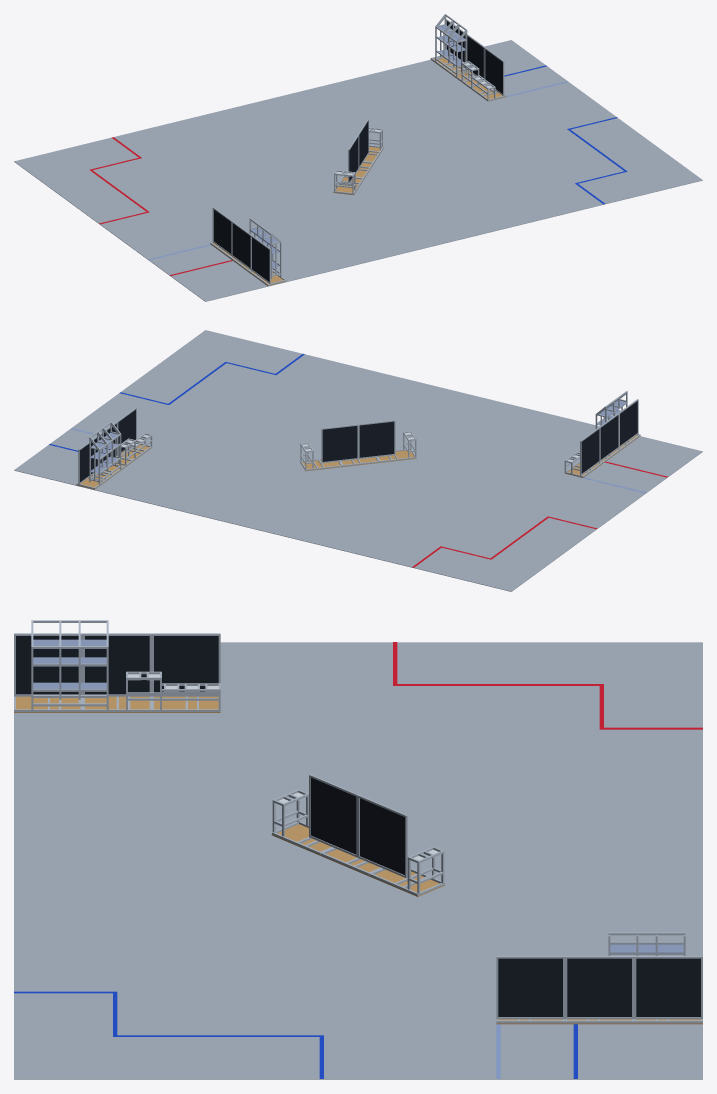
File: field.obj
3 renders of one model, top to bottom at view 1: azimuth 30°, elevation 25°; view 2: azimuth 150°, elevation 25°; view 3: azimuth 270°, elevation 25°, orthographic. The views are drawn at different scales.
Parts seen in each view (by area): view 1: floor_1, panel_2553, panel_1361, alu_553, alu_2625, alu_1433, alu_241, panel_3225, alu_2057, line_red_93, line_blue_151, board_2993 (+2 smaller); view 2: floor_1, panel_3225, panel_2553, alu_553, panel_1361, alu_2625, alu_1433, alu_241, board_2993, alu_3161, line_red_93, board_481 (+2 smaller); view 3: floor_1, panel_1361, panel_2553, panel_3225, alu_241, alu_2625, alu_1433, alu_2057, board_1673, shelf_2337, board_2993, line_blue_151 (+5 smaller).
Boxes of the visible parts, x1,y1,x2,y2 form: floor_1: (14,40,702,301); panel_2553: (213,209,269,281); panel_1361: (447,21,502,93); alu_553: (435,14,467,76); alu_2625: (333,127,383,194); alu_1433: (210,207,286,285); alu_241: (430,19,506,100); panel_3225: (349,121,368,181); alu_2057: (249,218,281,278); line_red_93: (89,137,232,275); line_blue_151: (504,65,627,204); board_2993: (333,146,383,195); floor_1: (14,330,702,591); panel_3225: (322,421,394,461); panel_2553: (581,401,637,473); alu_553: (89,421,121,484); panel_1361: (80,409,135,482); alu_2625: (300,431,416,470); alu_1433: (564,399,640,477); alu_241: (76,407,152,488); board_2993: (300,450,416,471); alu_3161: (321,420,395,463); line_red_93: (412,461,667,567); board_481: (76,445,151,489); floor_1: (14,642,702,1079); panel_1361: (498,958,700,1016); panel_2553: (16,636,218,694); panel_3225: (311,777,404,874); alu_241: (496,956,702,1023); alu_2625: (272,789,444,895); alu_1433: (14,633,220,711); alu_2057: (31,620,108,709); board_1673: (14,696,220,712); shelf_2337: (33,639,106,691); board_2993: (271,824,445,896); line_blue_151: (14,991,577,1078).
Size of the model in its own units: 12 by 1.09 by 8.
